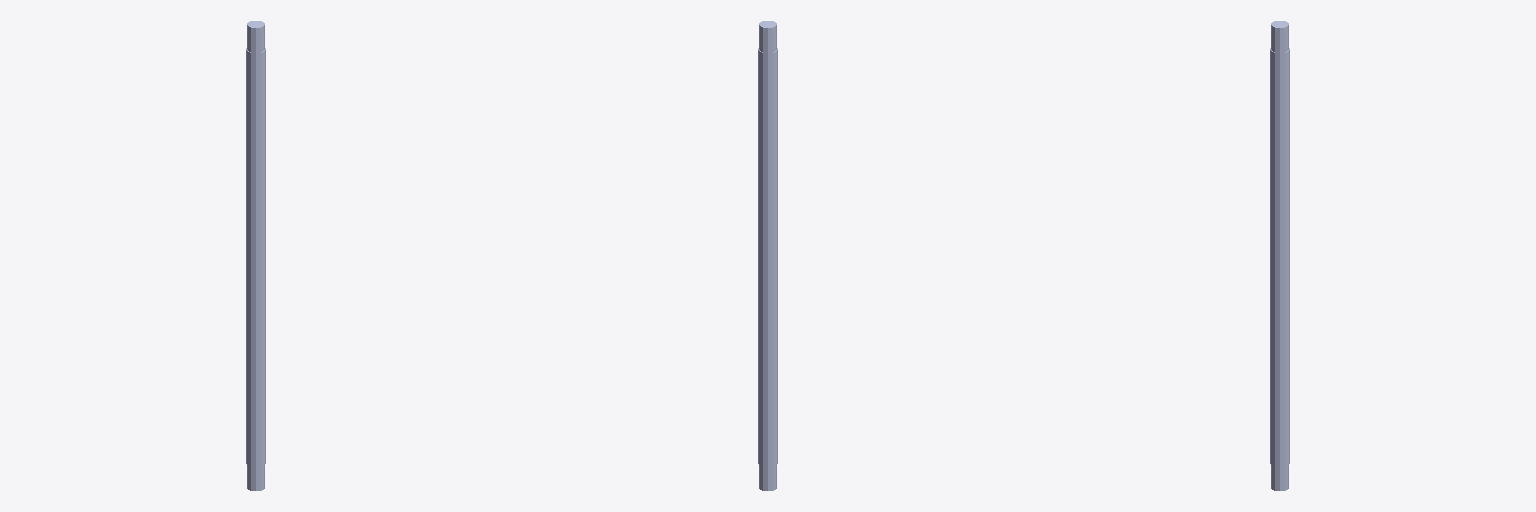
URDF robot description (base rod):
<robot
  name="base rod">
  <link
    name="base rod">
    <inertial>
      <origin
        xyz="1.0353E-35 1.47424294227797E-17 0.25"
        rpy="0 0 0" />
      <mass
        value="0.20892" />
      <inertia
        ixx="0.0052910602678995"
        ixy="-9.29261839626953E-39"
        ixz="2.26221665953019E-36"
        iyy="0.0052910602678995"
        iyz="-3.08179098282049E-19"
        izz="1.2441492306379E-05" />
    </inertial>
    <visual>
      <origin
        xyz="0 0 0"
        rpy="1.5707963267949 0 0" />
      <geometry>
        <mesh
          filename="package://base rod/meshes/base rod.STL" />
      </geometry>
      <material
        name="">
        <color
          rgba="0.79216 0.81961 0.93333 1" />
      </material>
    </visual>
    <collision>
      <origin
        xyz="0 0 0"
        rpy="1.5707963267949 0 0" />
      <geometry>
        <mesh
          filename="package://base rod/meshes/base rod.STL" />
      </geometry>
    </collision>
  </link>
</robot>

--- What the picture shows (computed from the rendered views, not written in the file) ---
Views: 3 orthographic renders of the robot side by side, from view 1: azimuth 30°, elevation 25°; view 2: azimuth 150°, elevation 25°; view 3: azimuth 270°, elevation 25°.
Robot: base rod — 1 links, 0 joints (none); root link base rod; default pose: all joints at 0.
Links seen in each view (by area): view 1: base rod; view 2: base rod; view 3: base rod.
Link boxes in pixels (x1,y1,x2,y2): base rod: (246,21,265,490); base rod: (758,21,777,490); base rod: (1270,21,1289,490).
Size in the robot's own frame: 0.022 by 0.022 by 0.56 metres.
1 mesh visuals loaded from 1 distinct referenced files (1 binary STL).
